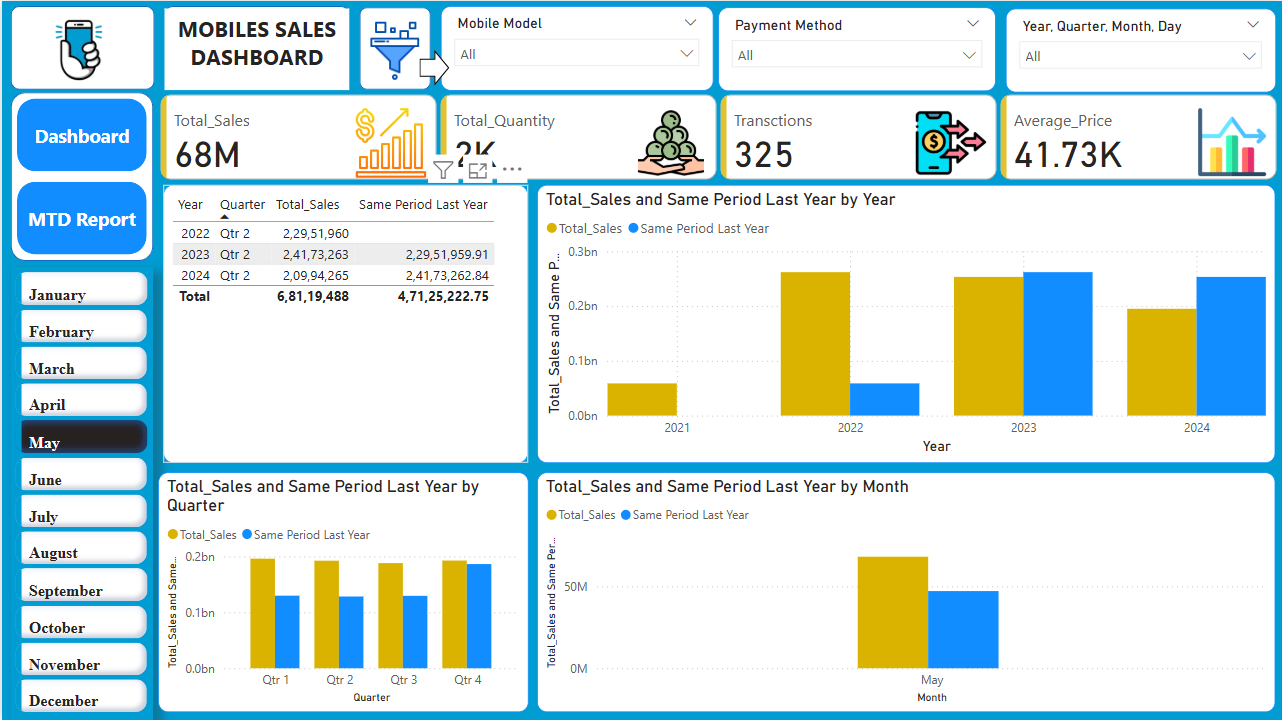

What the dashboard file says about the page in this screenshot:
{"tool":"powerbi","page":{"name":"Same Period Last Year ","canvas":[1280,720],"ordinal":2},"visuals":[{"type":"shape","box":[8.8,5,143.8,83.8],"z":0},{"type":"shape","box":[8.8,91.2,142.5,168.8],"z":2000},{"type":"cardVisual","fields":{"Data":["Mobiles_Sales_Data.Total_Sales","Mobiles_Sales_Data.Total_Quantity","Mobiles_Sales_Data.Transctions","Mobiles_Sales_Data.Average_Price"]},"box":[153.8,88.8,1126.2,95],"z":3000},{"type":"slicer","fields":{"Values":["Mobiles_Sales_Data.Mobile Model"]},"box":[438.8,5,272.5,85],"z":4000},{"type":"slicer","fields":{"Values":["Mobiles_Sales_Data.Payment Method"]},"box":[716.2,6.2,277.5,83.8],"z":5000},{"type":"slicer","fields":{"Values":["Custom_Calender.Date.Variation.Date Hierarchy.Year","Custom_Calender.Date.Variation.Date Hierarchy.Quarter","Custom_Calender.Date.Variation.Date Hierarchy.Month","Custom_Calender.Date.Variation.Date Hierarchy.Day"]},"box":[1003.8,7.5,270,83.8],"z":6000},{"type":"shape","box":[357.5,6.2,71.2,82.5],"z":7000},{"type":"image","box":[310,15,166.2,70],"z":8000},{"type":"shape","box":[162.5,5,185,83.8],"z":9000},{"type":"textbox","box":[162.5,7.5,185,81.2],"z":10000},{"type":"shape","box":[417.5,48.8,30,36.2],"z":11000},{"type":"advancedSlicerVisual","fields":{"Values":["Custom_Calender.Date.Variation.Date Hierarchy.Month"]},"box":[8.8,266.2,142.5,453.8],"z":12000},{"type":"tableEx","fields":{"Values":["Custom_Calender.Date.Variation.Date Hierarchy.Year","Custom_Calender.Date.Variation.Date Hierarchy.Quarter","Mobiles_Sales_Data.Total_Sales","Mobiles_Sales_Data.Same Period Last Year"]},"box":[161.2,183.8,365,278.8],"z":13000},{"type":"clusteredColumnChart","fields":{"Category":["Custom_Calender.Date.Variation.Date Hierarchy.Year","Custom_Calender.Date.Variation.Date Hierarchy.Quarter"],"Y":["Mobiles_Sales_Data.Total_Sales","Mobiles_Sales_Data.Same Period Last Year"]},"box":[535,183.8,738.8,278.8],"z":14000},{"type":"clusteredColumnChart","fields":{"Y":["Mobiles_Sales_Data.Total_Sales","Mobiles_Sales_Data.Same Period Last Year"],"Category":["Custom_Calender.Date.Variation.Date Hierarchy.Month"]},"box":[535,471.2,738.8,240],"z":14001},{"type":"clusteredColumnChart","fields":{"Category":["Custom_Calender.Date.Variation.Date Hierarchy.Quarter"],"Y":["Mobiles_Sales_Data.Total_Sales","Mobiles_Sales_Data.Same Period Last Year"]},"box":[156.2,471.2,370,240],"z":14002},{"type":"pageNavigator","box":[15,97.5,130,156.2],"z":14003},{"type":"image","box":[33.8,7.5,82.5,82.5],"z":14004}]}

Visuals, with their boxes in screenshot pixels (x1, y1, x2, y2), scaled from the page's 1280x720 canvas onto the 1282x720 screenshot:
shape: detection(9, 5, 153, 89)
shape: detection(9, 91, 152, 260)
cardVisual - Mobiles_Sales_Data.Total_Sales x Mobiles_Sales_Data.Total_Quantity: detection(154, 89, 1281, 184)
slicer - Mobiles_Sales_Data.Mobile Model: detection(439, 5, 712, 90)
slicer - Mobiles_Sales_Data.Payment Method: detection(717, 6, 995, 90)
slicer - Custom_Calender.Date.Variation.Date Hierarchy.Year x Custom_Calender.Date.Variation.Date Hierarchy.Quarter: detection(1005, 8, 1276, 91)
shape: detection(358, 6, 429, 89)
image: detection(310, 15, 477, 85)
shape: detection(163, 5, 348, 89)
textbox: detection(163, 8, 348, 89)
shape: detection(418, 49, 448, 85)
advancedSlicerVisual - Custom_Calender.Date.Variation.Date Hierarchy.Month: detection(9, 266, 152, 719)
tableEx - Custom_Calender.Date.Variation.Date Hierarchy.Year x Custom_Calender.Date.Variation.Date Hierarchy.Quarter: detection(161, 184, 527, 463)
clusteredColumnChart - Custom_Calender.Date.Variation.Date Hierarchy.Year x Custom_Calender.Date.Variation.Date Hierarchy.Quarter: detection(536, 184, 1276, 463)
clusteredColumnChart - Mobiles_Sales_Data.Total_Sales x Mobiles_Sales_Data.Same Period Last Year: detection(536, 471, 1276, 711)
clusteredColumnChart - Custom_Calender.Date.Variation.Date Hierarchy.Quarter x Mobiles_Sales_Data.Total_Sales: detection(156, 471, 527, 711)
pageNavigator: detection(15, 98, 145, 254)
image: detection(34, 8, 116, 90)
